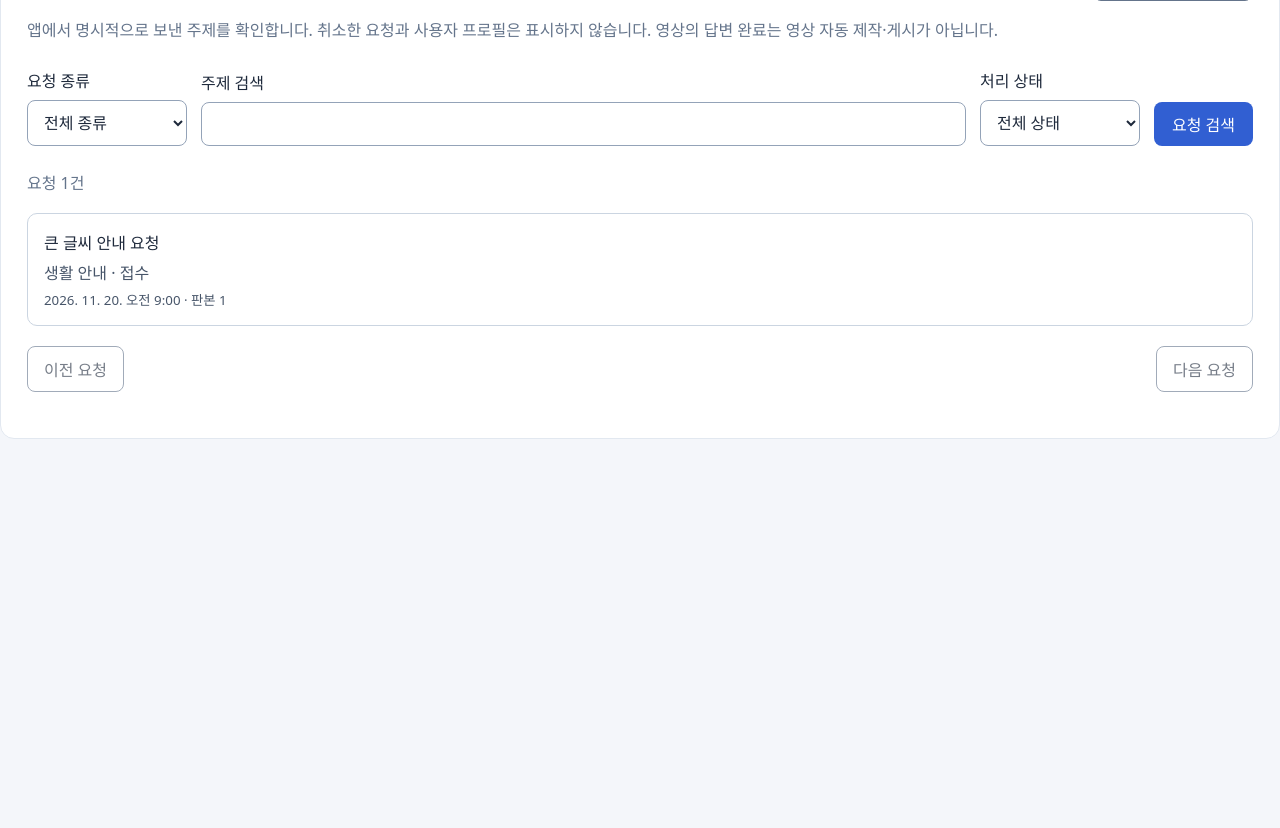
Scenario: 게시 안내가 없으면 완료를 가장하지 않고 검수·게시가 필요함을 안내한다
Click the button "큰 글씨 안내 요청": [102, 243] box [27,213,1253,326]
(page scrolled)
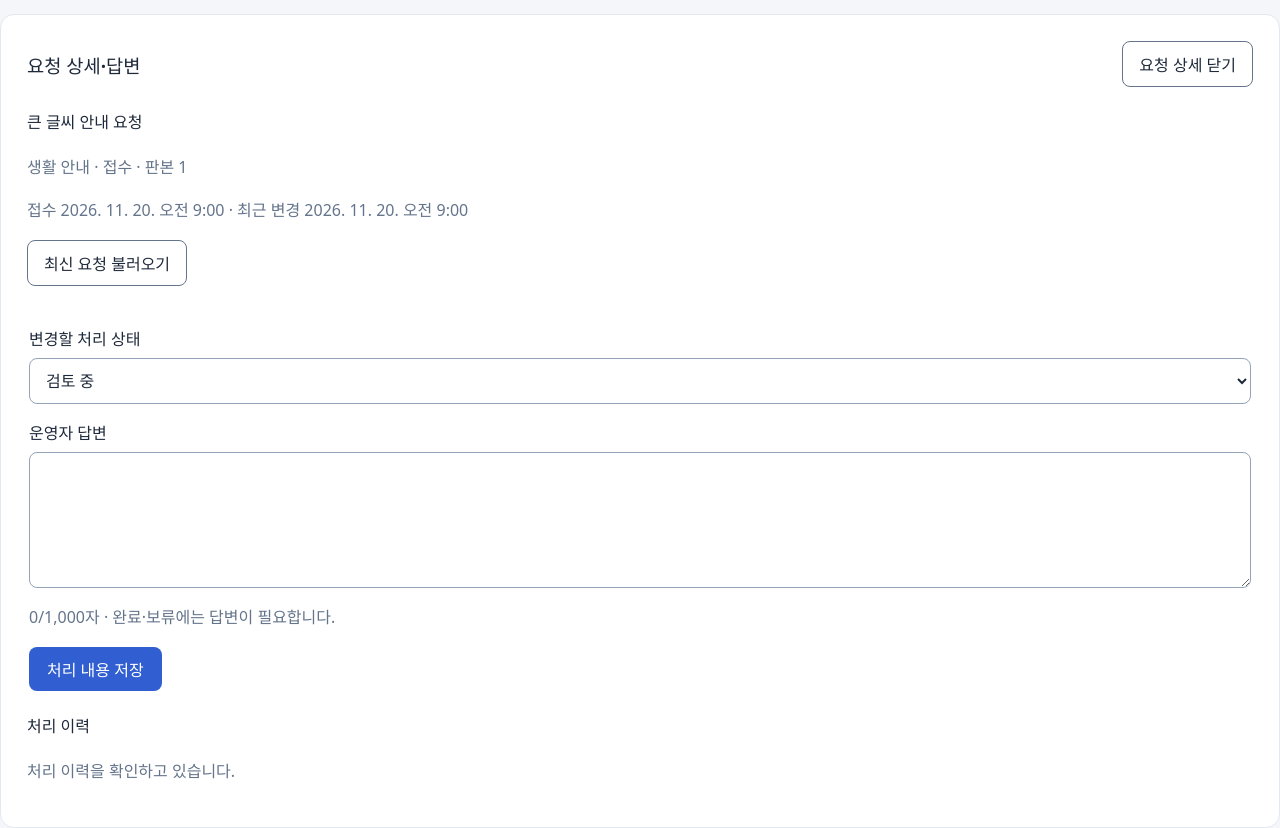
expect the text box labelled "운영자 답변" is shown: met, box [29,452,1251,588]
Select "답변 완료" in the dropdown labelled "변경할 처리 상태": [640, 381] box [29,358,1251,404]
(page scrolled)
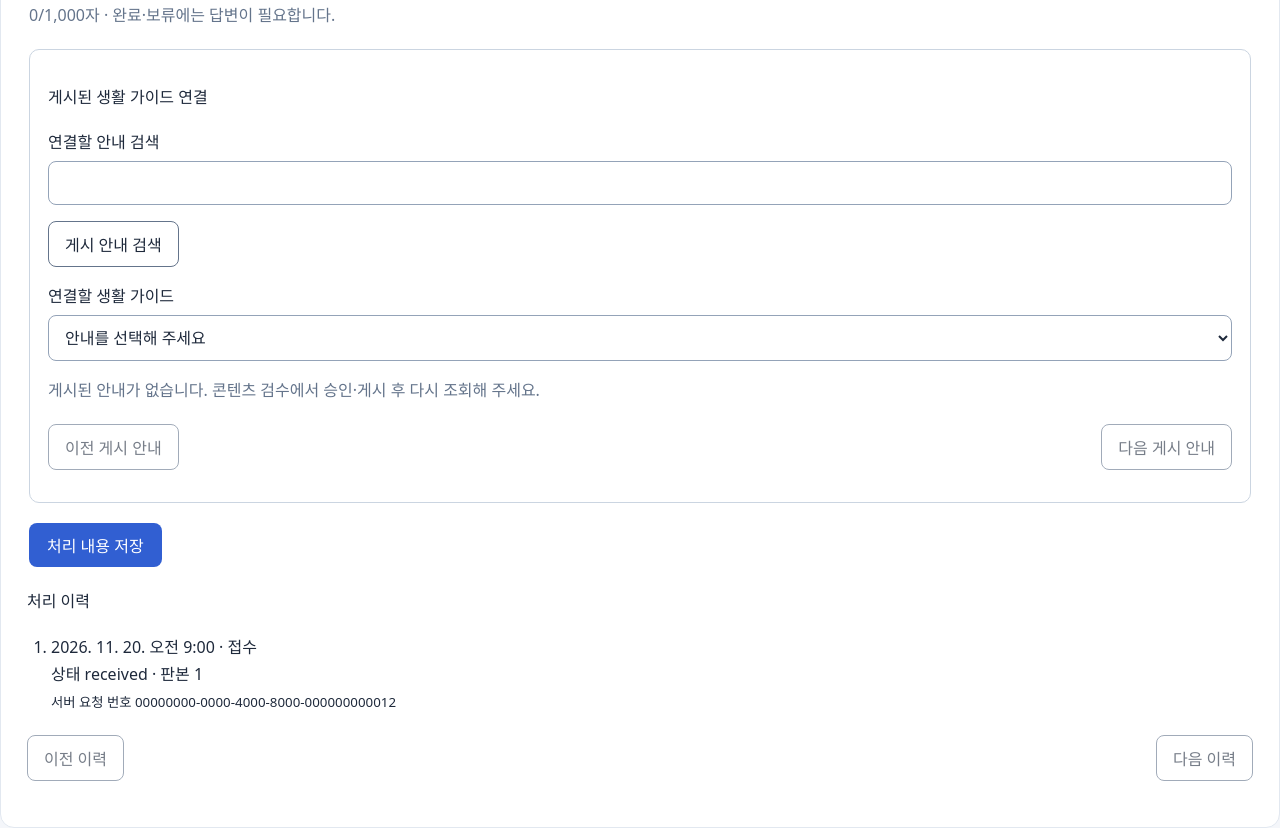
expect the text "게시된 안내가 없습니다. 콘텐츠 검수에서 승인·게시 후 다시 조회해 주세요." is shown: met, box [48,379,540,401]
